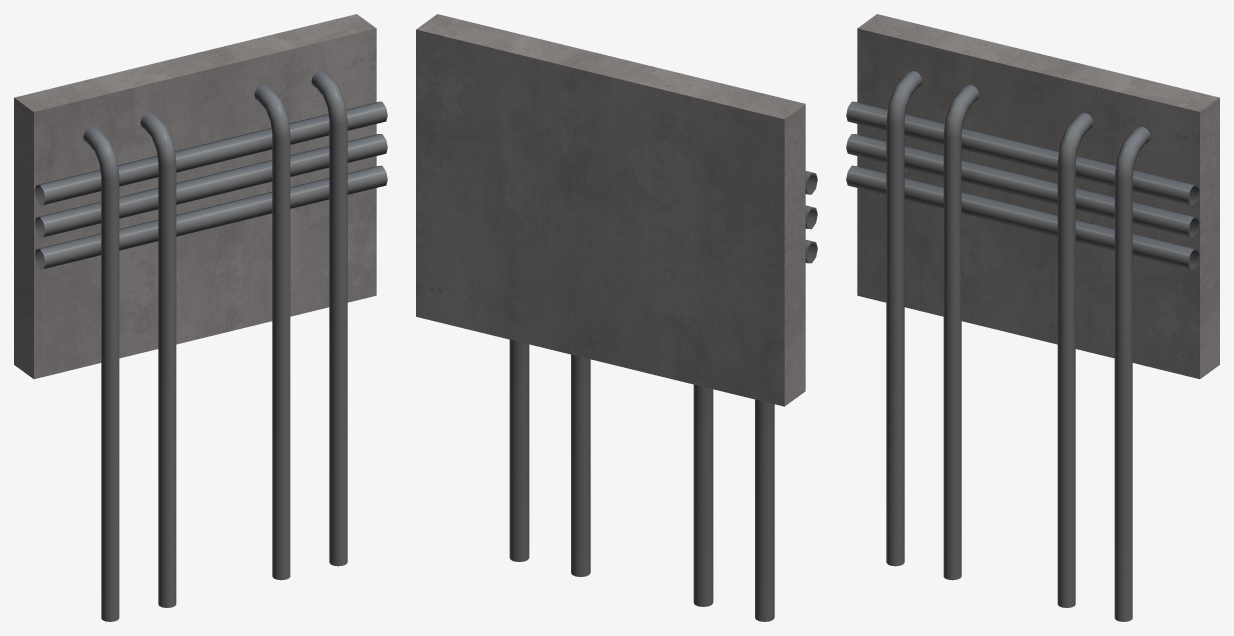
Rendered from Chem_Wall.fbx.
3 views of the same model, side by side, from view 1: azimuth 30°, elevation 25°; view 2: azimuth 150°, elevation 25°; view 3: azimuth 330°, elevation 25° (orthographic). The views are drawn at different scales.
Parts seen in each view (by area): view 1: Wall; view 2: Wall; view 3: Wall.
Boxes of the visible parts, x1,y1,x2,y2 form: Wall: (14,14,387,621); Wall: (416,14,817,621); Wall: (846,14,1219,621).
Size of the model in its own units: 6.01 by 8.48 by 1.32.
Materials: 1 (1 with a texture image).
